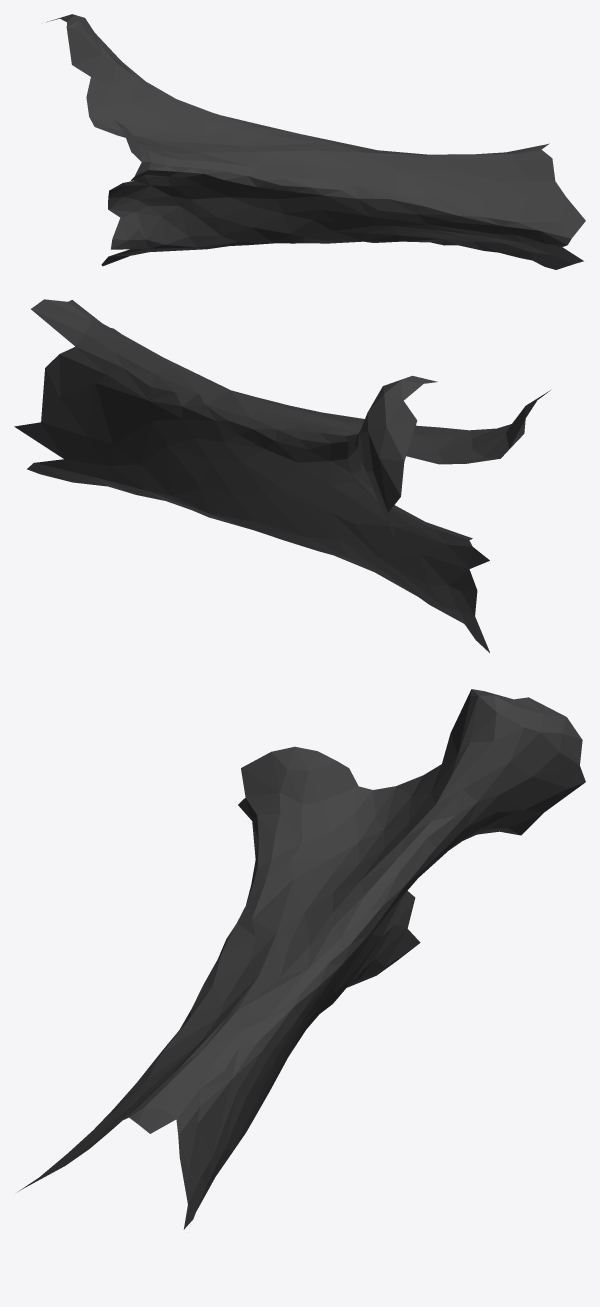
File: mainland-prop.glb
3 renders of one model, top to bottom at view 1: azimuth 30°, elevation 25°; view 2: azimuth 150°, elevation 25°; view 3: azimuth 270°, elevation 25°, orthographic. The views are drawn at different scales.
Parts seen in each view (by area): view 1: woolly-mammoth-150k.obj; view 2: woolly-mammoth-150k.obj; view 3: woolly-mammoth-150k.obj.
Part boxes in pixels (box(x1,y1,x2,y2)): woolly-mammoth-150k.obj: box(46, 14, 585, 269); woolly-mammoth-150k.obj: box(14, 299, 550, 652); woolly-mammoth-150k.obj: box(18, 689, 585, 1229).
Size of the model in its own units: 0.547 by 0.3218 by 0.4817.
Materials: 1 (1 with a texture image).
